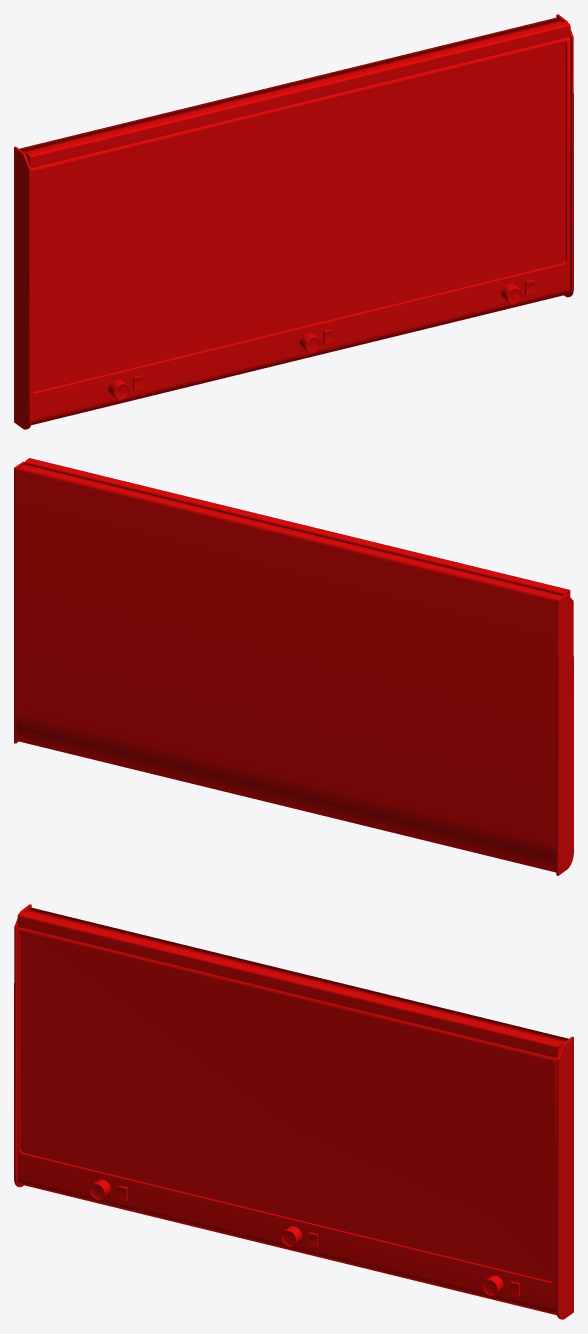
File: Equipment_25.fbx
3 views of the same model, one above another, from view 1: azimuth 30°, elevation 25°; view 2: azimuth 150°, elevation 25°; view 3: azimuth 330°, elevation 25° (orthographic).
Visible parts, largest first — view 1: polySurface1192; view 2: polySurface1192; view 3: polySurface1192.
Part boxes in pixels (<box>): polySurface1192: <box>14,14,573,429</box>; polySurface1192: <box>14,458,573,875</box>; polySurface1192: <box>14,904,573,1319</box>.
Size of the model in its own units: 285 by 138 by 18.01.
